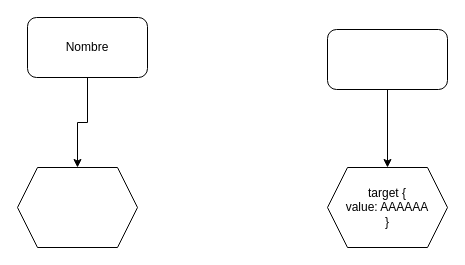
This 465x265 diagram has some shape labels left out. The shapes that lost their labels are listed below. From the top down, each one's box as (x1, y1, x2, y2) in pixels, then its label:
(326, 28, 448, 90): Apellido Paterno
(16, 166, 138, 248): target { value: xxxx }
